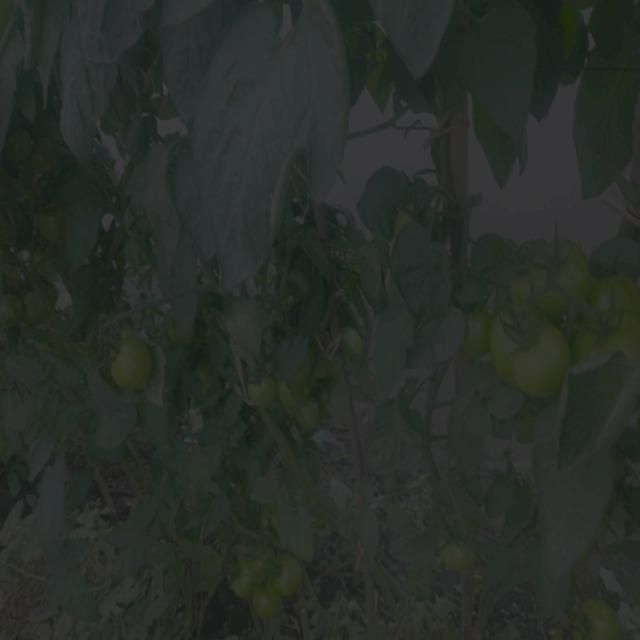tomato: (517, 234, 588, 313), (571, 280, 640, 361), (508, 326, 576, 399), (109, 324, 164, 395), (493, 307, 540, 362), (458, 300, 505, 351), (574, 599, 621, 640), (227, 557, 262, 604), (245, 365, 277, 411), (439, 539, 479, 575), (254, 587, 286, 626), (294, 398, 326, 436), (276, 561, 306, 599), (1, 261, 27, 299), (37, 213, 64, 246), (341, 328, 368, 357), (3, 297, 22, 336), (16, 133, 40, 162)
